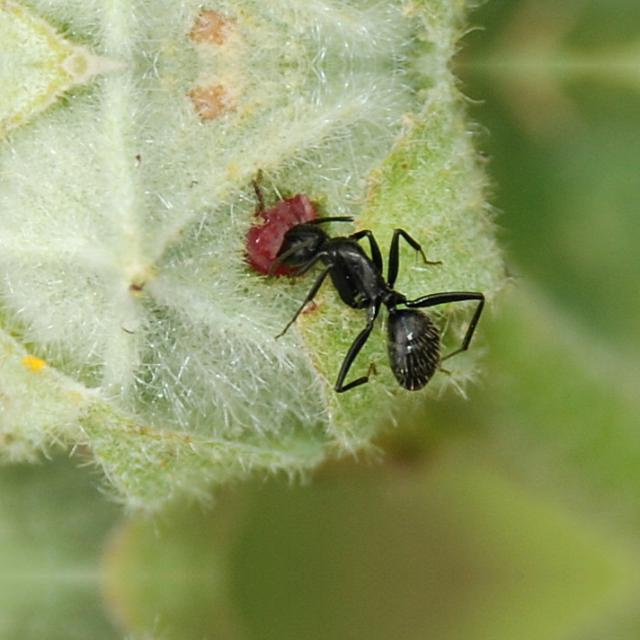Camponotus: (264, 199, 450, 399)
